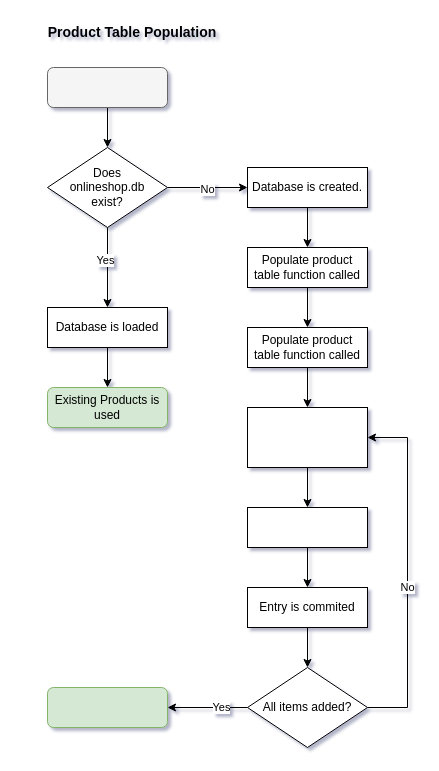
Some shapes in this 439 by 771 pixel diagram are drawn without their labels. Here are the shapes that lost their labels. From the top down, the box of each, then its label:
(46, 66, 168, 108): Web App is started
(246, 406, 368, 468): For loop iterates through each item in items list
(246, 506, 368, 548): Dictionary item values saved to database
(46, 686, 168, 728): Products table is populated
